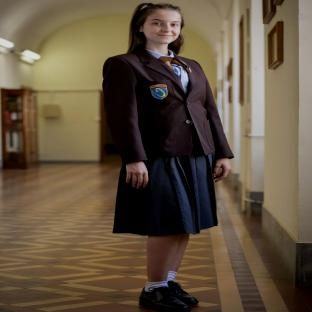Human: (103, 3, 233, 312)
